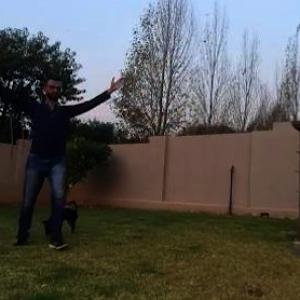takeoff: (0, 73, 118, 256)
